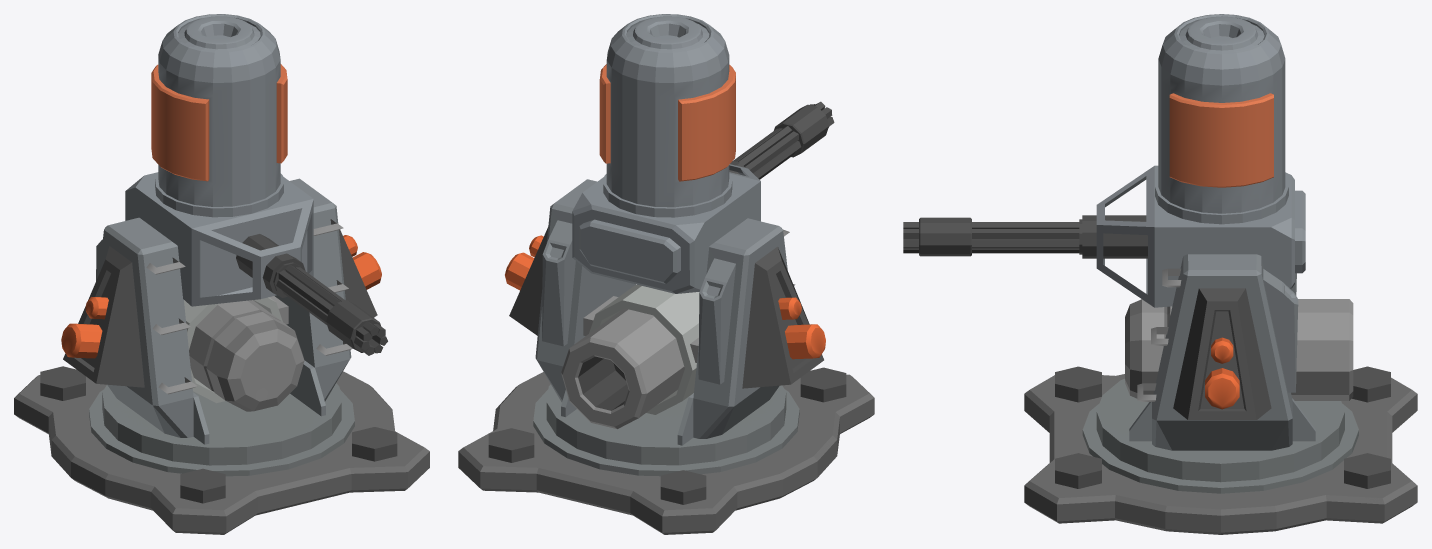
Rendered from model_polyfleet_battleship_phalanx03.fbx.
3 views of the same model, side by side, from view 1: azimuth 30°, elevation 25°; view 2: azimuth 150°, elevation 25°; view 3: azimuth 270°, elevation 25° (orthographic). The views are drawn at different scales.
Visible parts, largest first — view 1: weapon_rotate, weapon_barrel_tilt, model_polyfleet_battleship_phalanx03, weapon_barrels; view 2: weapon_rotate, weapon_barrel_tilt, model_polyfleet_battleship_phalanx03, weapon_barrels; view 3: weapon_rotate, weapon_barrel_tilt, model_polyfleet_battleship_phalanx03, weapon_barrels.
Part boxes in pixels (x1,y1,x2,y2): weapon_rotate: [61, 178, 381, 476]; weapon_barrel_tilt: [125, 14, 313, 306]; model_polyfleet_battleship_phalanx03: [14, 366, 429, 534]; weapon_barrels: [236, 234, 387, 355]; weapon_rotate: [505, 179, 825, 476]; weapon_barrel_tilt: [572, 14, 760, 293]; model_polyfleet_battleship_phalanx03: [458, 367, 874, 534]; weapon_barrels: [729, 101, 834, 179]; weapon_rotate: [1082, 254, 1358, 493]; weapon_barrel_tilt: [1096, 14, 1305, 307]; model_polyfleet_battleship_phalanx03: [1024, 366, 1417, 534]; weapon_barrels: [903, 215, 1147, 258].
Size of the model in its own units: 384 by 489 by 530.
